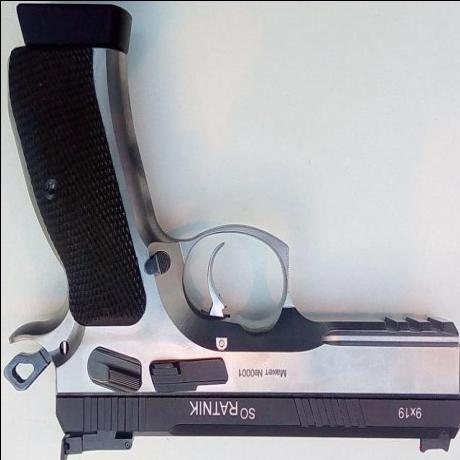weapon: (0, 27, 456, 460)
